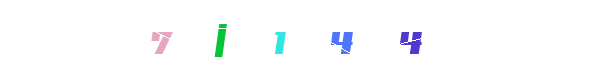1: (235, 0, 315, 80)
4: (267, 0, 347, 80), (337, 0, 417, 80)
7: (152, 0, 232, 80)
J: (180, 0, 260, 80)
